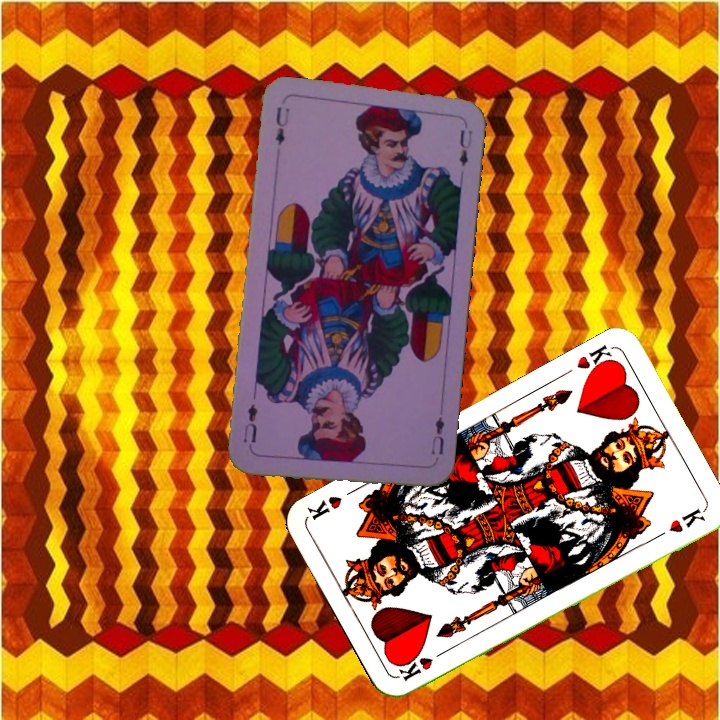EU: (271, 102, 292, 148), (427, 413, 447, 457)
HK: (394, 645, 450, 684), (572, 340, 619, 379)
